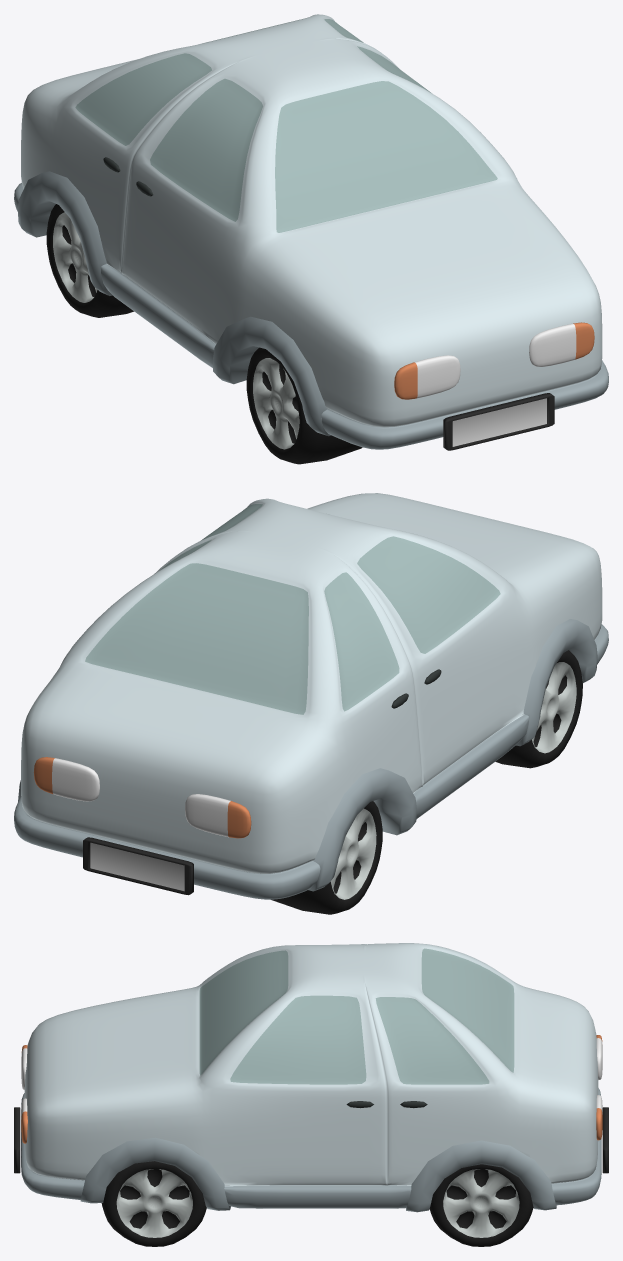
Rendered from carwhitefixed.fbx.
The picture shows the model from 3 angles, top to bottom: view 1: azimuth 30°, elevation 25°; view 2: azimuth 150°, elevation 25°; view 3: azimuth 270°, elevation 25°; orthographic projection. The views are drawn at different scales.
Parts seen in each view (by area): view 1: Cube, Cylinder.008, Cylinder.007, Cube.005, Cube.001; view 2: Cube, Cylinder.008, Cylinder.007, Cube.005, Cube.001; view 3: Cube, Cylinder.008, Cylinder.007, Cube.005, Cube.001.
Boxes of the visible parts, x1,y1,x2,y2 form: Cube: (14, 14, 608, 449); Cylinder.008: (46, 204, 362, 464); Cylinder.007: (17, 171, 330, 436); Cube.005: (394, 322, 594, 399); Cube.001: (443, 393, 554, 450); Cube: (14, 493, 608, 899); Cylinder.008: (271, 650, 582, 914); Cylinder.007: (18, 619, 597, 891); Cube.005: (33, 757, 251, 838); Cube.001: (83, 837, 193, 895); Cube: (21, 943, 601, 1208); Cylinder.008: (101, 1161, 533, 1246); Cylinder.007: (80, 1137, 556, 1212); Cube.005: (21, 1035, 602, 1143); Cube.001: (14, 1107, 608, 1173).
Bounding box in the file's own units: 453 × 389 × 888.
